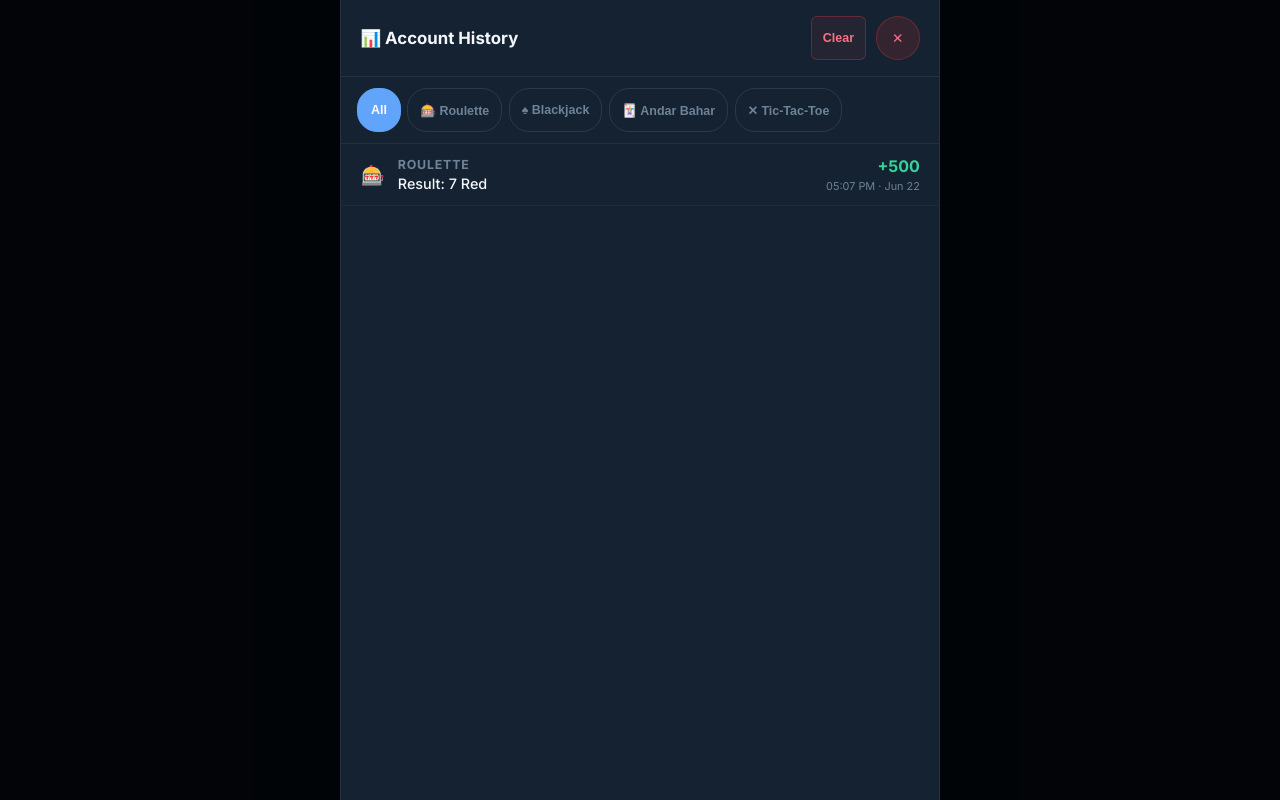
Test: AccountHistory › filtering › shows no results message when filter has no matches
The image size is (1280, 800).
# Click Tic-Tac-Toe filter (no TTT events)
Click the button "✕ Tic-Tac-Toe". click: {"x": 788, "y": 110}
box: x1=734 y1=88 x2=842 y2=132
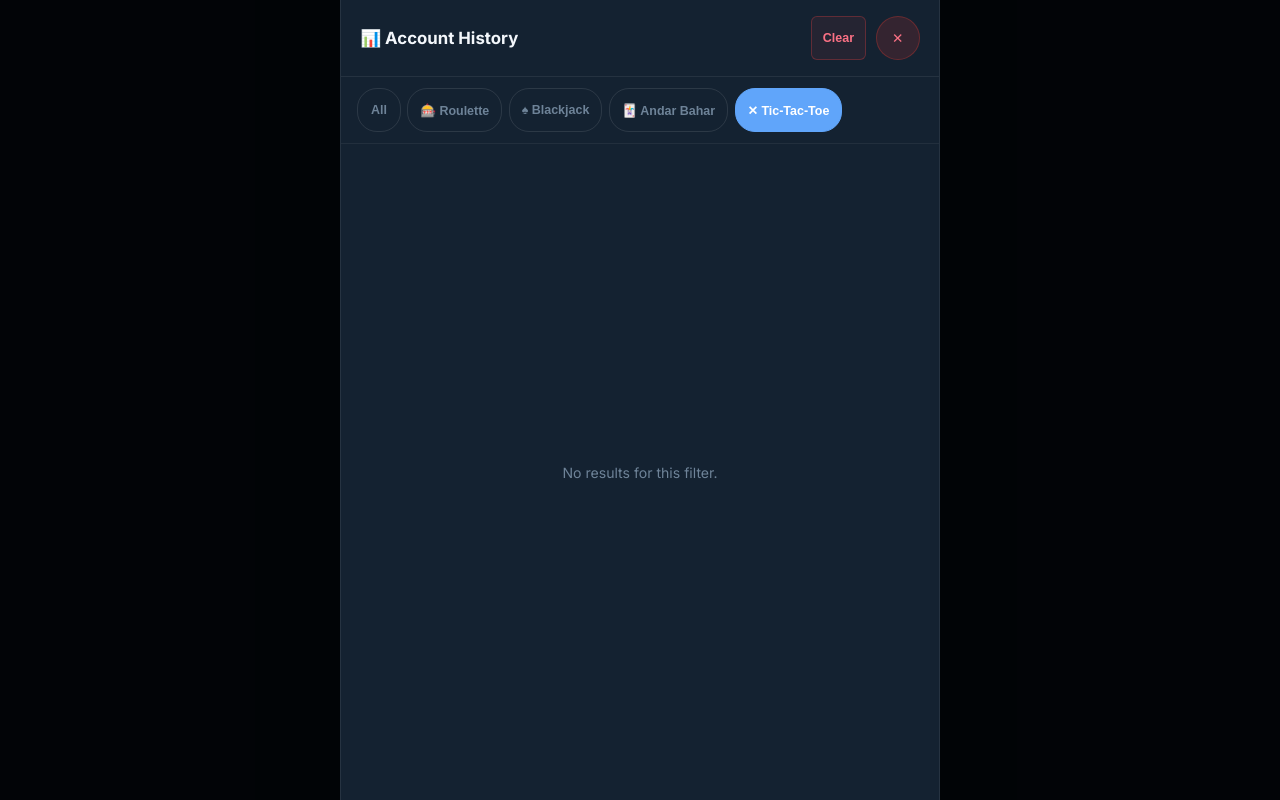
Result: the text "No results for this filter." is shown at x1=562 y1=464 x2=718 y2=481
